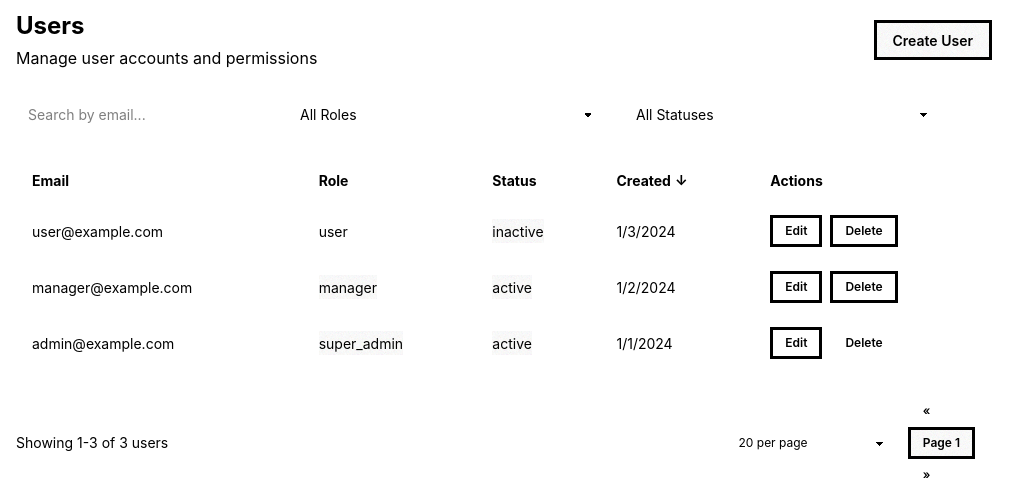
Test case: UsersTable › Sorting › should sort by role when header clicked
Click the column heading with test id "sort-role" at x=334, y=180, box [303,158,476,203]
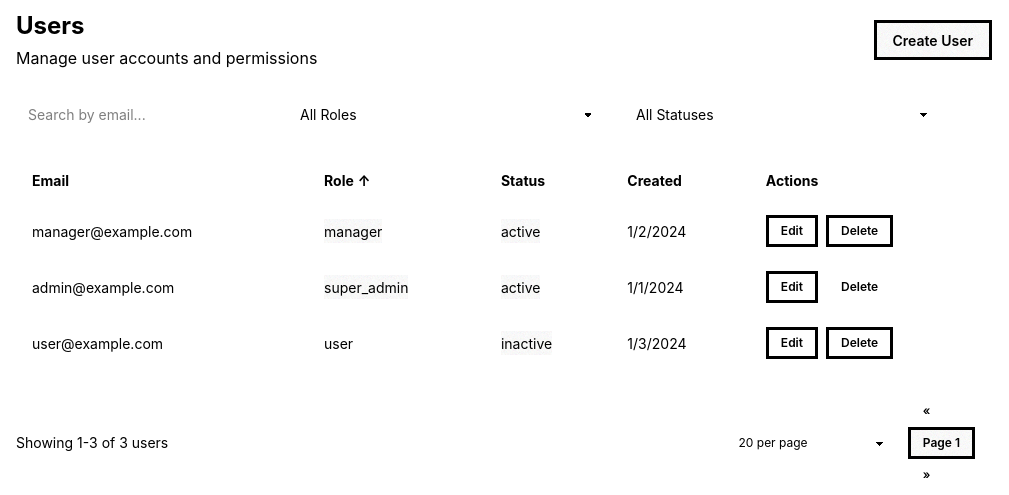
Result: the text "↑" is shown at [358,172,370,189]
